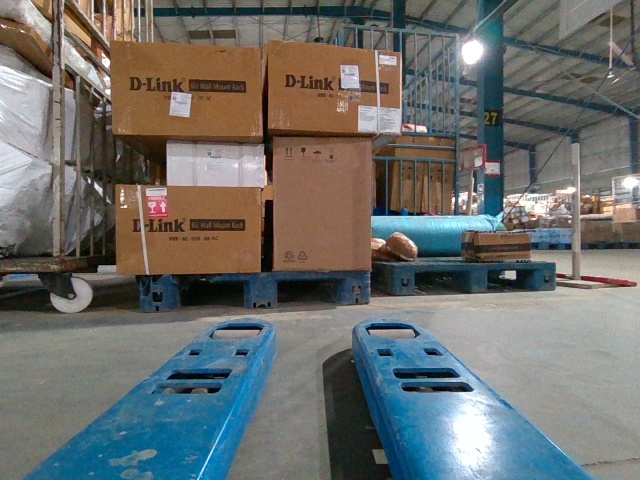block: (137, 273, 181, 314), (244, 273, 277, 309), (379, 261, 412, 295), (344, 270, 370, 305), (470, 262, 489, 296), (534, 261, 556, 289)
front: (136, 271, 370, 311), (392, 264, 556, 294)
hole pallet: (173, 278, 246, 308), (275, 275, 345, 303), (411, 266, 473, 292), (484, 265, 540, 291)
